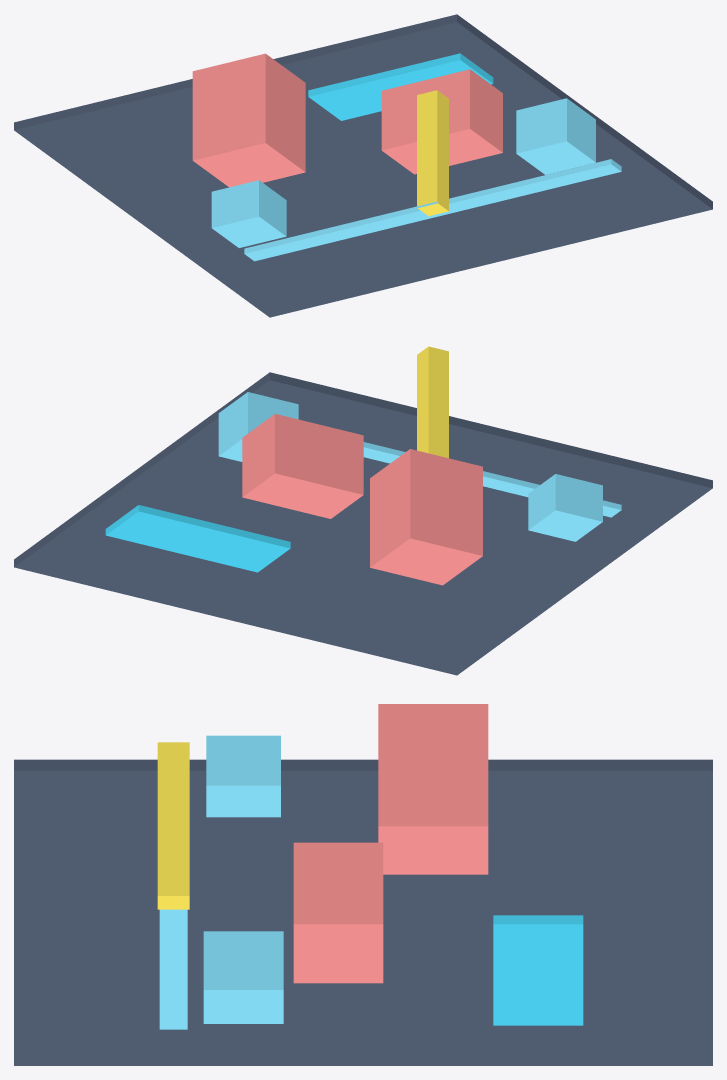
File: mainstream-feed.glb
3 renders of one model, top to bottom at view 1: azimuth 30°, elevation 25°; view 2: azimuth 150°, elevation 25°; view 3: azimuth 270°, elevation 25°, orthographic. The views are drawn at different scales.
Visible parts, largest first — view 1: environment floor, main structure, secondary structure, route layer, context block b, environment plane, context block a, observation marker; view 2: environment floor, main structure, secondary structure, environment plane, context block a, observation marker, context block b, route layer; view 3: environment floor, main structure, secondary structure, environment plane, context block b, context block a, observation marker, route layer.
Part boxes in pixels (bbox=[...]): environment floor: bbox=[14, 14, 712, 317]; main structure: bbox=[192, 53, 305, 187]; secondary structure: bbox=[381, 69, 502, 174]; route layer: bbox=[244, 159, 621, 261]; context block b: bbox=[516, 98, 595, 174]; environment plane: bbox=[308, 53, 493, 120]; context block a: bbox=[211, 180, 286, 247]; observation marker: bbox=[417, 90, 448, 216]; environment floor: bbox=[14, 372, 712, 675]; main structure: bbox=[370, 449, 482, 585]; secondary structure: bbox=[242, 414, 363, 518]; environment plane: bbox=[105, 505, 290, 572]; context block a: bbox=[528, 474, 602, 541]; observation marker: bbox=[417, 346, 448, 458]; context block b: bbox=[218, 392, 298, 461]; route layer: bbox=[363, 442, 621, 517]; environment floor: bbox=[14, 759, 712, 1065]; main structure: bbox=[378, 704, 488, 874]; secondary structure: bbox=[293, 842, 383, 983]; environment plane: bbox=[493, 915, 583, 1025]; context block b: bbox=[203, 931, 283, 1023]; context block a: bbox=[206, 735, 280, 817]; observation marker: bbox=[157, 742, 189, 909]; route layer: bbox=[159, 909, 187, 1029].
Size of the model in its own units: 7 by 1.87 by 7.
